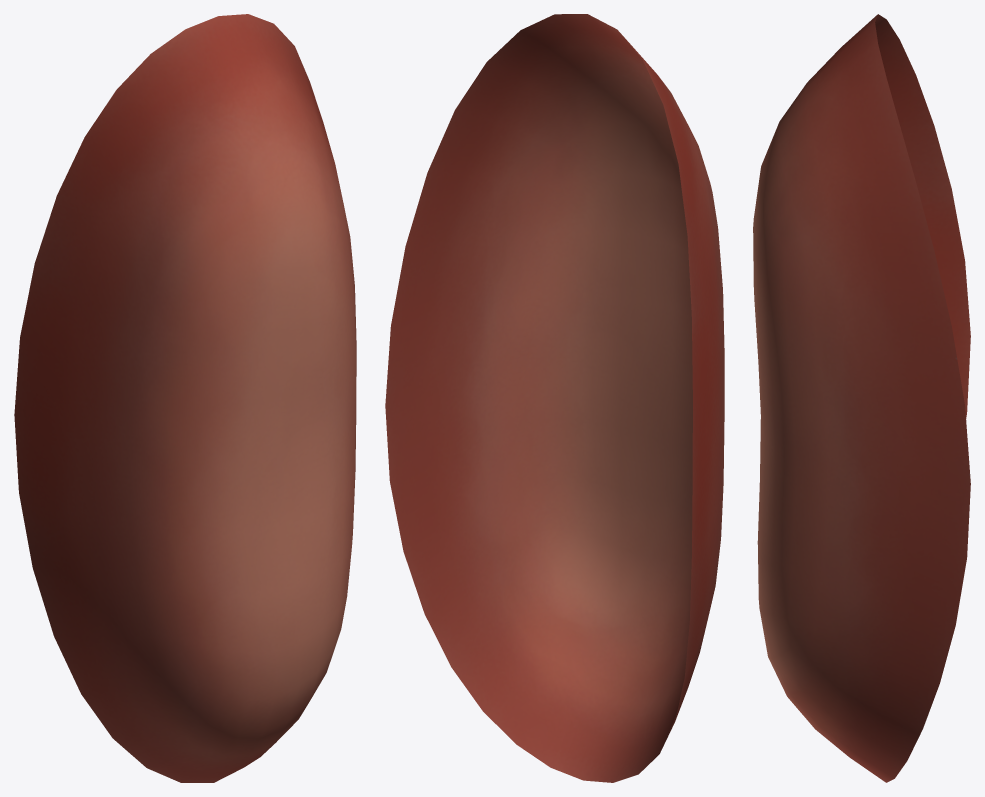
The model's file is FBX_LongPimple_01.fbx.
3 views of the same model, side by side, from view 1: azimuth 30°, elevation 25°; view 2: azimuth 150°, elevation 25°; view 3: azimuth 270°, elevation 25° (orthographic). The views are drawn at different scales.
Parts seen in each view (by area): view 1: LongPimple; view 2: LongPimple; view 3: LongPimple.
Boxes of the visible parts, box(x1,y1,x2,y2) form: LongPimple: box(14, 14, 356, 782); LongPimple: box(385, 14, 724, 782); LongPimple: box(753, 14, 970, 782).
Size of the model in its own units: 107 by 253 by 66.51.
